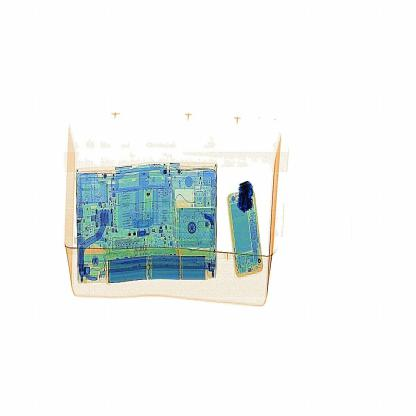scissors: (232, 167, 261, 217)
